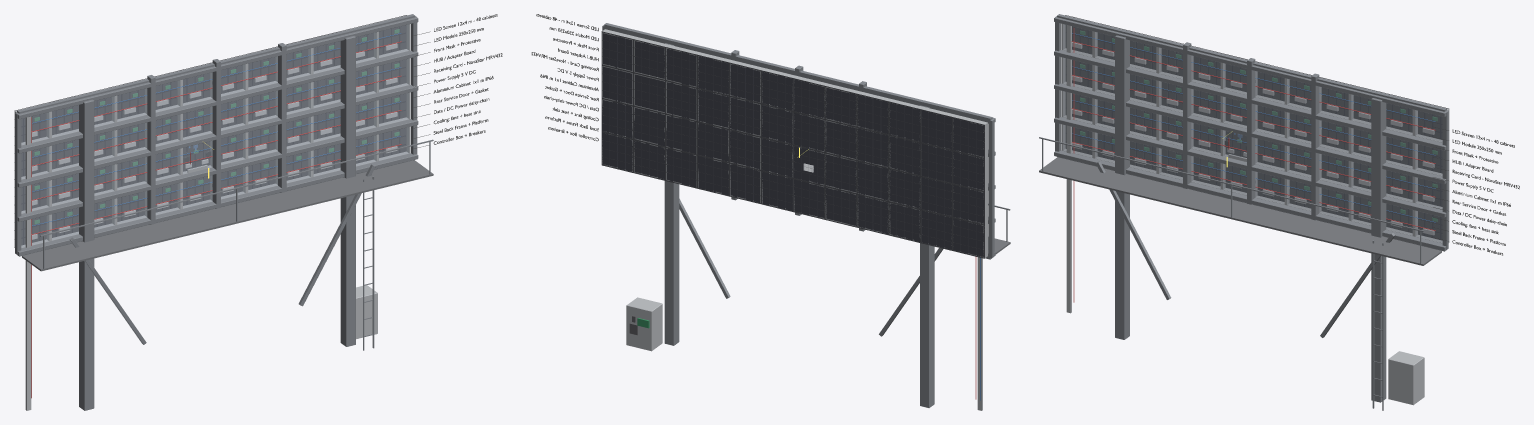
Rendered from billboard-technical.glb.
3 renders of one model, left to right at view 1: azimuth 30°, elevation 25°; view 2: azimuth 150°, elevation 25°; view 3: azimuth 330°, elevation 25°, orthographic. The views are drawn at different scales.
Parts seen in each view (by area): view 1: Rear_Maintenance_Platform_Deck, Vertical_Beam_Leg_L, Vertical_Beam_Leg_R, Steel_Back_Frame, Horizontal_Beam_8, Horizontal_Beam_6, Horizontal_Beam_7, Horizontal_Beam_5, Horizontal_Beam_9, Cable_Tray_Left, Vertical_Beam_Post_-2, Vertical_Beam_Post_+2 (+129 smaller); view 2: Front_Protective_Surface, Steel_Back_Frame, Vertical_Beam_Leg_R, Vertical_Beam_Leg_L, Controller_Box, Cabinet_02_03_LED_Module_Grid, Cabinet_03_03_LED_Module_Grid, Cabinet_03_02_LED_Module_Grid, Cabinet_02_02_LED_Module_Grid, Cabinet_02_01_LED_Module_Grid, Cabinet_03_01_LED_Module_Grid, Cabinet_02_00_LED_Module_Grid (+44 smaller); view 3: Rear_Maintenance_Platform_Deck, Vertical_Beam_Leg_R, Vertical_Beam_Leg_L, Steel_Back_Frame, Horizontal_Beam_8, Horizontal_Beam_7, Horizontal_Beam_6, Horizontal_Beam_5, Horizontal_Beam_9, Controller_Box, Cable_Tray_Left, Vertical_Beam_Post_+2 (+127 smaller).
Boxes of the visible parts, x1,y1,x2,y2 form: Rear_Maintenance_Platform_Deck: (22, 160, 433, 271); Vertical_Beam_Leg_L: (79, 99, 94, 410); Vertical_Beam_Leg_R: (340, 36, 355, 346); Steel_Back_Frame: (15, 14, 417, 256); Horizontal_Beam_8: (17, 50, 418, 153); Horizontal_Beam_6: (17, 119, 418, 221); Horizontal_Beam_7: (17, 85, 418, 187); Horizontal_Beam_5: (17, 153, 418, 256); Horizontal_Beam_9: (16, 16, 418, 119); Cable_Tray_Left: (25, 116, 31, 410); Vertical_Beam_Post_-2: (147, 75, 155, 224); Vertical_Beam_Post_+2: (278, 43, 286, 192); Front_Protective_Surface: (602, 32, 983, 257); Steel_Back_Frame: (602, 23, 994, 259); Vertical_Beam_Leg_R: (664, 43, 679, 345); Vertical_Beam_Leg_L: (920, 105, 934, 407); Controller_Box: (626, 297, 662, 351); Cabinet_02_03_LED_Module_Grid: (889, 102, 920, 141); Cabinet_03_03_LED_Module_Grid: (857, 95, 888, 133); Cabinet_03_02_LED_Module_Grid: (857, 128, 888, 167); Cabinet_02_02_LED_Module_Grid: (889, 136, 920, 175); Cabinet_02_01_LED_Module_Grid: (889, 169, 920, 208); Cabinet_03_01_LED_Module_Grid: (857, 161, 888, 200); Cabinet_02_00_LED_Module_Grid: (889, 203, 920, 241); Rear_Maintenance_Platform_Deck: (1039, 157, 1441, 265); Vertical_Beam_Leg_R: (1371, 98, 1386, 402); Vertical_Beam_Leg_L: (1115, 35, 1129, 339); Steel_Back_Frame: (1055, 14, 1448, 251); Horizontal_Beam_8: (1054, 50, 1446, 150); Horizontal_Beam_7: (1054, 83, 1446, 183); Horizontal_Beam_6: (1054, 117, 1446, 217); Horizontal_Beam_5: (1054, 150, 1446, 251); Horizontal_Beam_9: (1054, 16, 1447, 116); Controller_Box: (1388, 351, 1424, 405); Cable_Tray_Left: (1066, 25, 1071, 313); Vertical_Beam_Post_+2: (1311, 73, 1319, 220).
Bounding box in the file's own units: 14.67 × 9.2 × 2.06.
